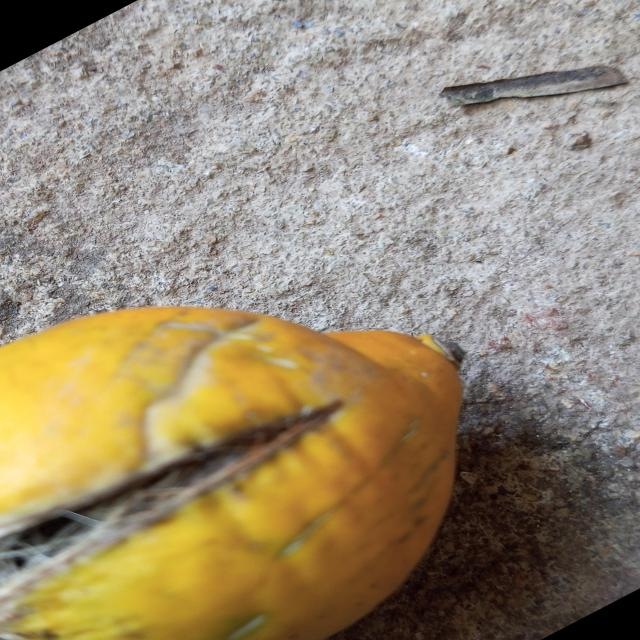damaged: (0, 307, 464, 640)
